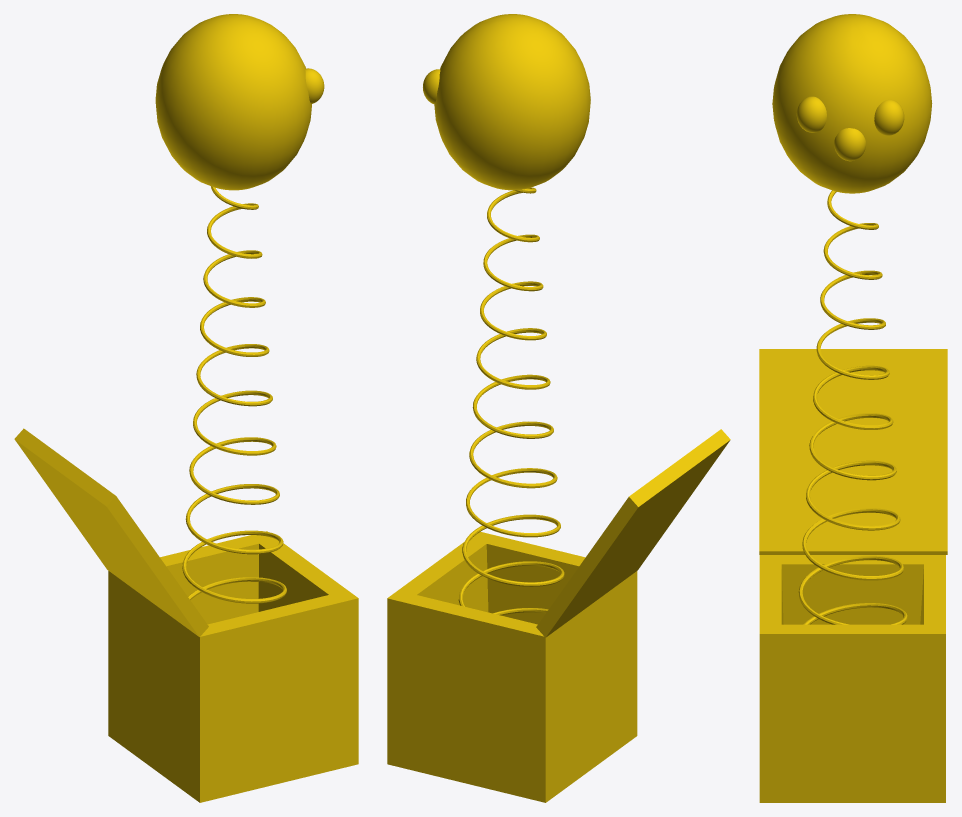
The model's file is _lown.fbx.
3 renders of one model, left to right at view 1: azimuth 30°, elevation 25°; view 2: azimuth 150°, elevation 25°; view 3: azimuth 270°, elevation 25°, orthographic.
Visible parts, largest first — view 1: Box001; view 2: Box001; view 3: Box001.
Part boxes in pixels (box(x1,y1,x2,y2)): Box001: box(14, 14, 358, 802); Box001: box(387, 14, 730, 802); Box001: box(759, 14, 947, 802).
Size of the model in its own units: 162 by 447 by 103.
